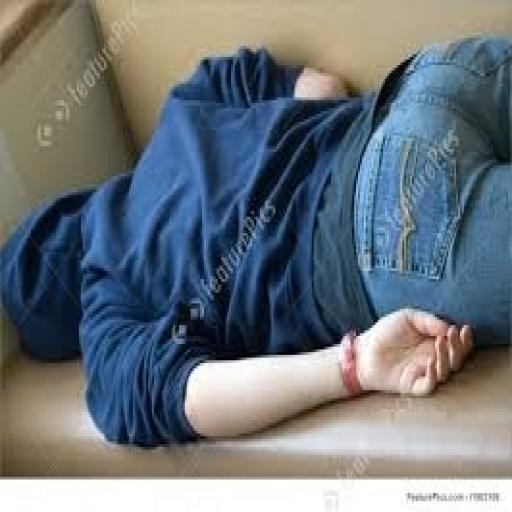sleeping: (0, 30, 510, 450)
